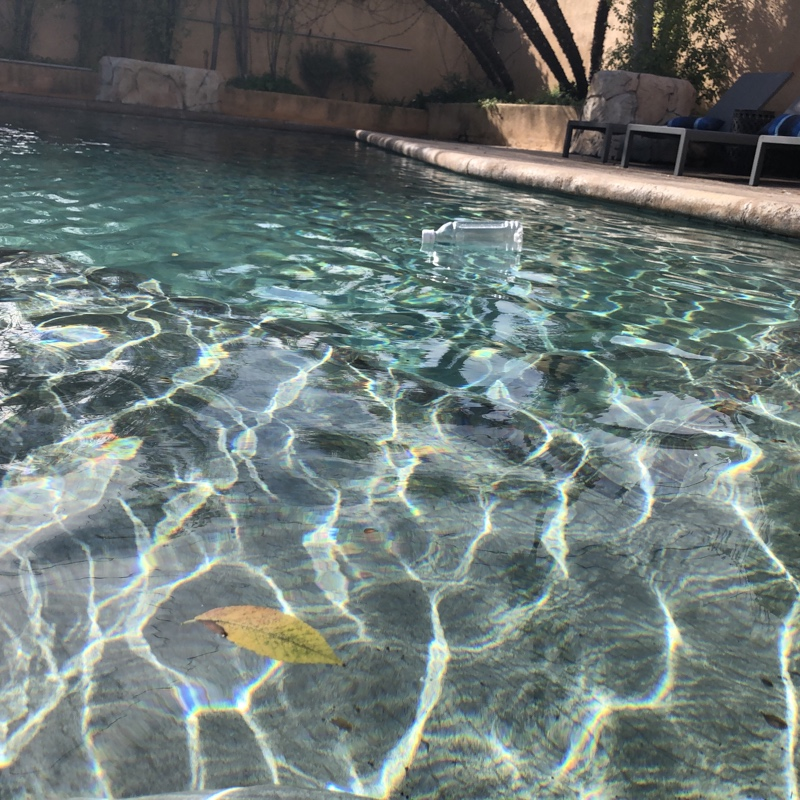Plastic Bottle: (414, 214, 528, 259)
